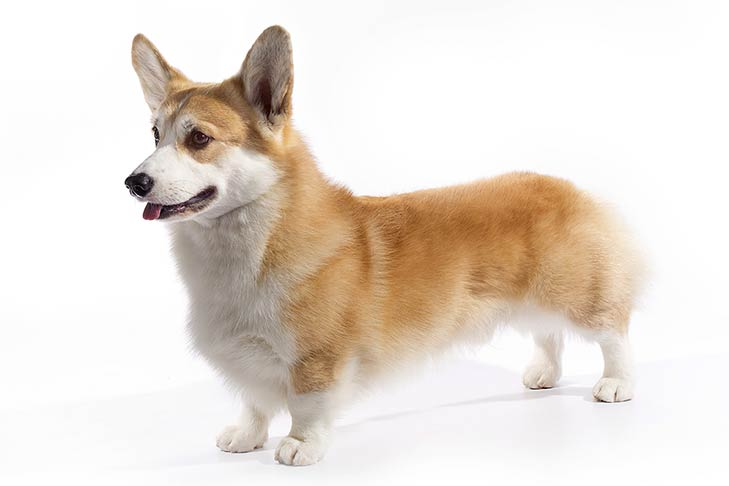dog: (124, 30, 664, 468)
